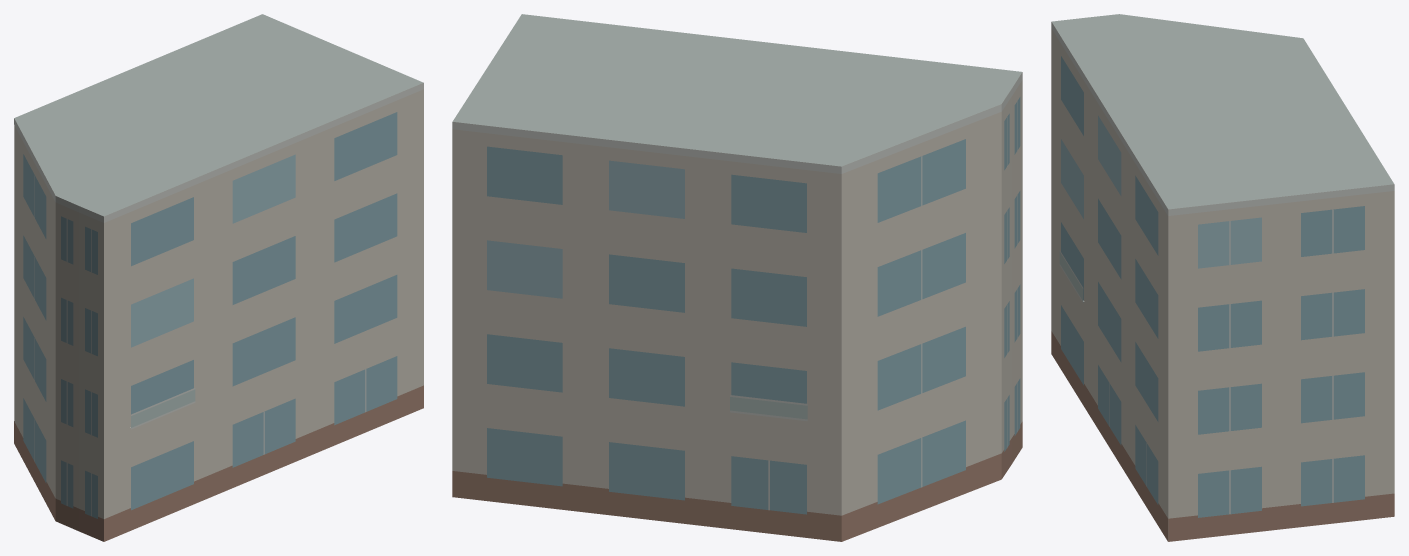
The model's file is residential-4966649c-e165-4397-8716-aff67e5b919a.glb.
3 views of the same model, side by side, from view 1: azimuth 30°, elevation 25°; view 2: azimuth 150°, elevation 25°; view 3: azimuth 270°, elevation 25° (orthographic). The views are drawn at different scales.
Parts seen in each view (by area): view 1: residential-4966649c-e165-4397-8716-aff67e5b919a.tmp; view 2: residential-4966649c-e165-4397-8716-aff67e5b919a.tmp; view 3: residential-4966649c-e165-4397-8716-aff67e5b919a.tmp.
Boxes of the visible parts, x1,y1,x2,y2 form: residential-4966649c-e165-4397-8716-aff67e5b919a.tmp: (14, 14, 423, 541); residential-4966649c-e165-4397-8716-aff67e5b919a.tmp: (452, 14, 1022, 541); residential-4966649c-e165-4397-8716-aff67e5b919a.tmp: (1051, 14, 1394, 541).
Size of the model in its own units: 15.4 by 12.2 by 11.42.
